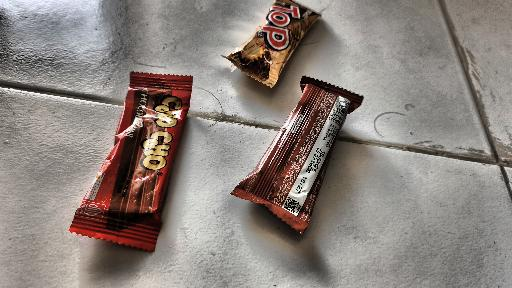chocho: (91, 45, 187, 261)
top: (226, 0, 379, 229)
